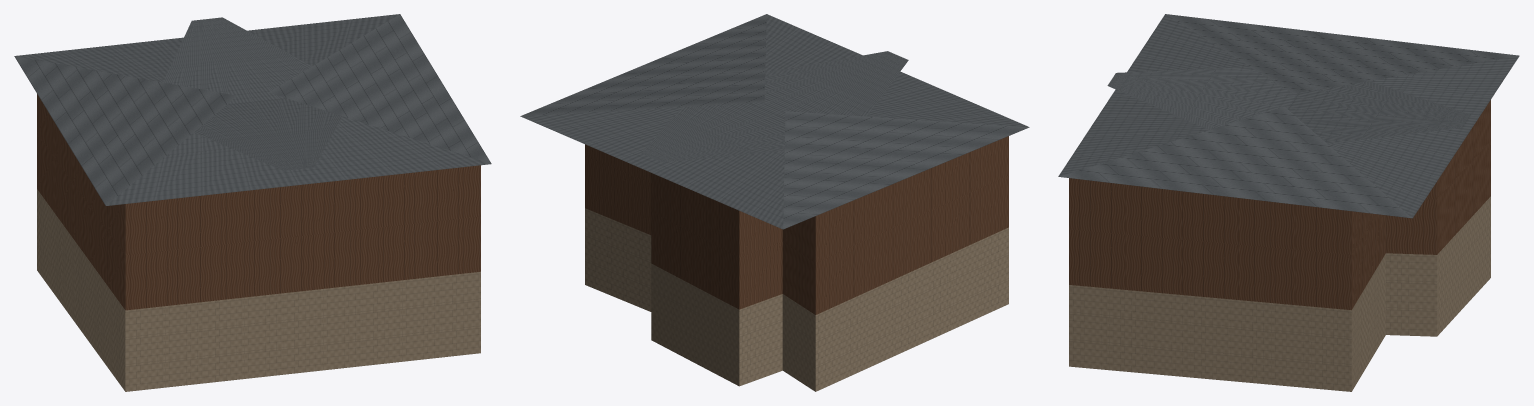
File: bld_c-21_14_542.gltf
3 views of the same model, side by side, from view 1: azimuth 30°, elevation 25°; view 2: azimuth 150°, elevation 25°; view 3: azimuth 270°, elevation 25° (orthographic). The views are drawn at different scales.
Visible parts, largest first — view 1: bld_c-21_14_542; view 2: bld_c-21_14_542; view 3: bld_c-21_14_542.
Boxes of the visible parts, x1=… form: bld_c-21_14_542: x1=14, y1=14, x2=491, y2=391; bld_c-21_14_542: x1=520, y1=14, x2=1029, y2=391; bld_c-21_14_542: x1=1058, y1=14, x2=1519, y2=391.
Size of the model in its own units: 27.35 by 13 by 26.1.
3 materials, 3 textured.
